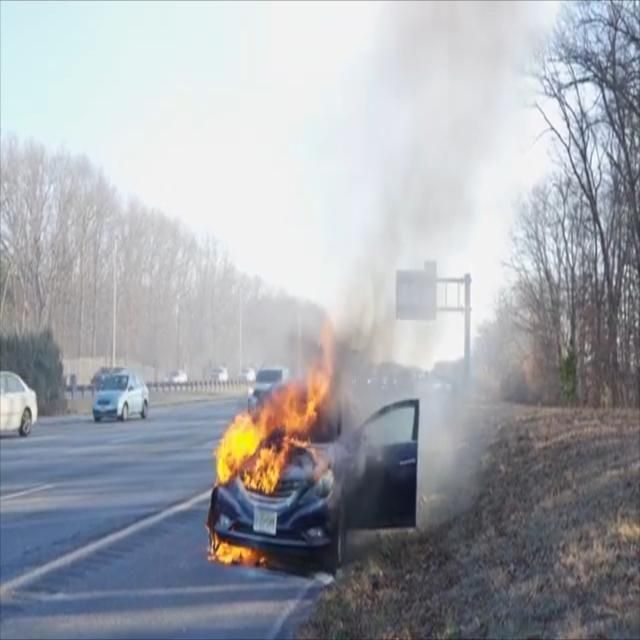fire: (205, 310, 344, 570)
